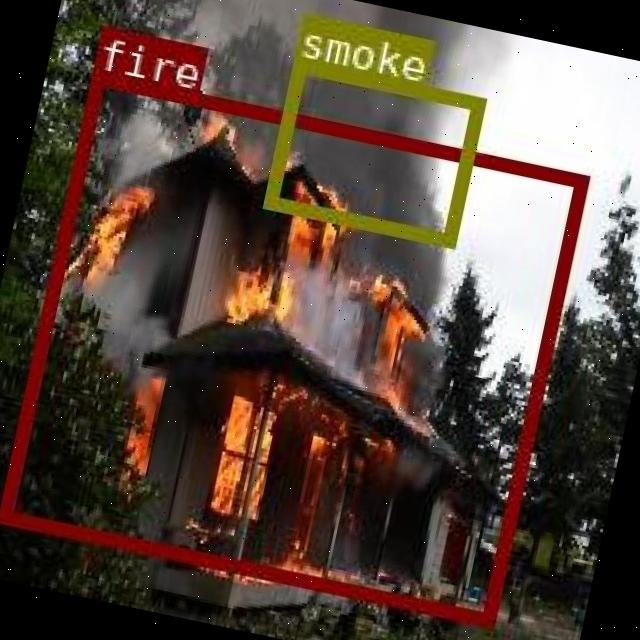fire: (0, 69, 585, 624)
smoke: (262, 56, 482, 244)
